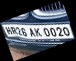character: (33, 26, 42, 37), (61, 25, 70, 36), (55, 25, 63, 36), (42, 26, 50, 36), (28, 27, 35, 37), (49, 26, 56, 36)
